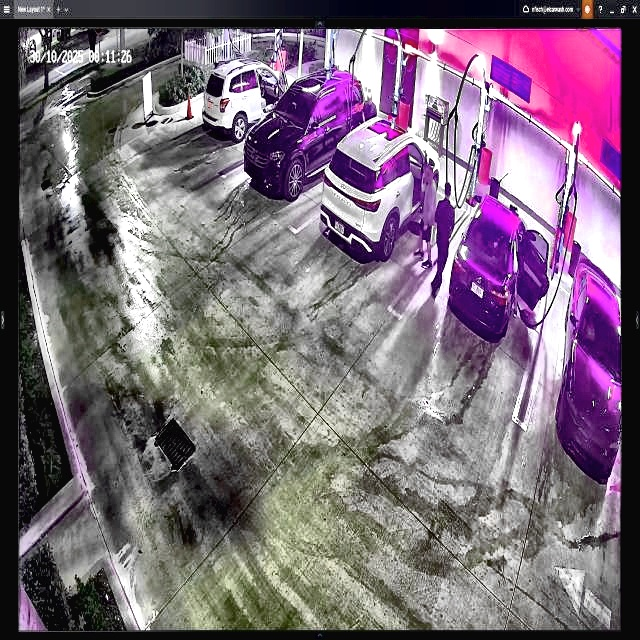Car: (322, 119, 439, 260), (243, 68, 364, 195), (450, 195, 546, 336)
